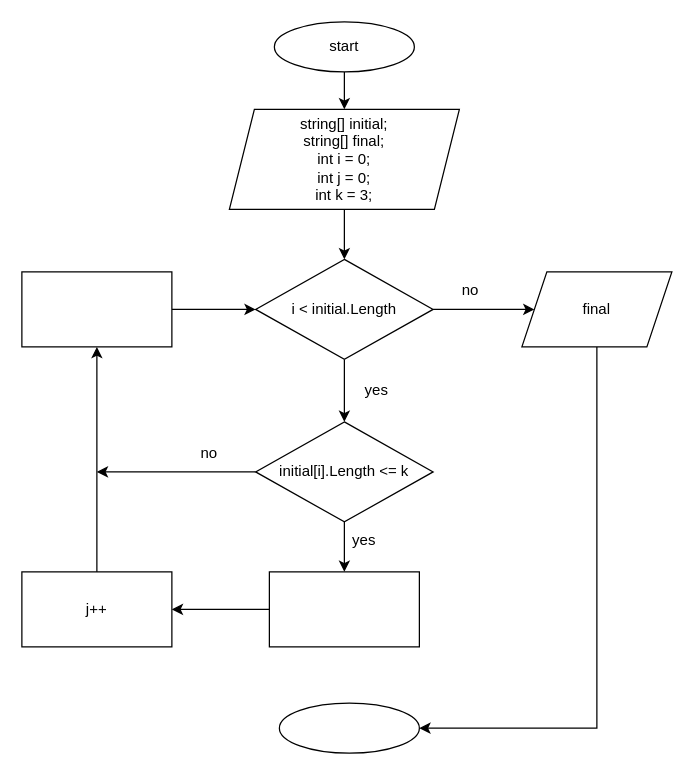
This 694x775 diagram has some shape labels left out. The box of each missing label's shape, as (x1, y1, x2, y2) in pixels:
end: (278, 702, 419, 753)
final[j] = initial[i]: (268, 571, 419, 647)
i++: (21, 271, 172, 347)
